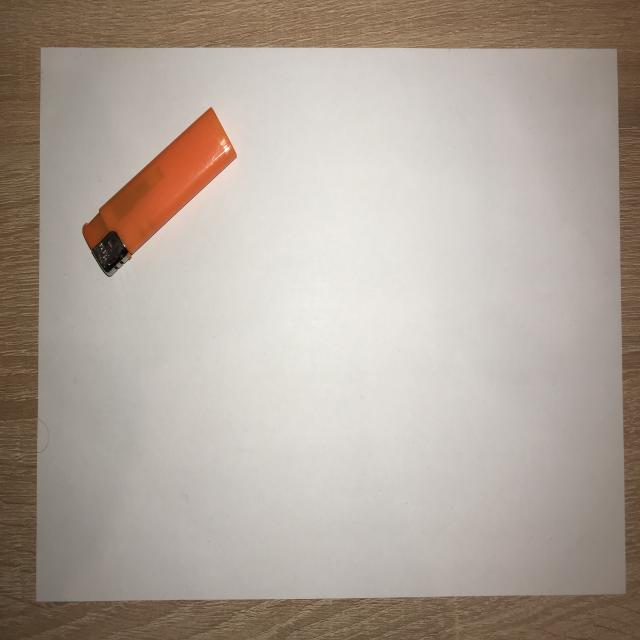lighter: (76, 98, 244, 282)
